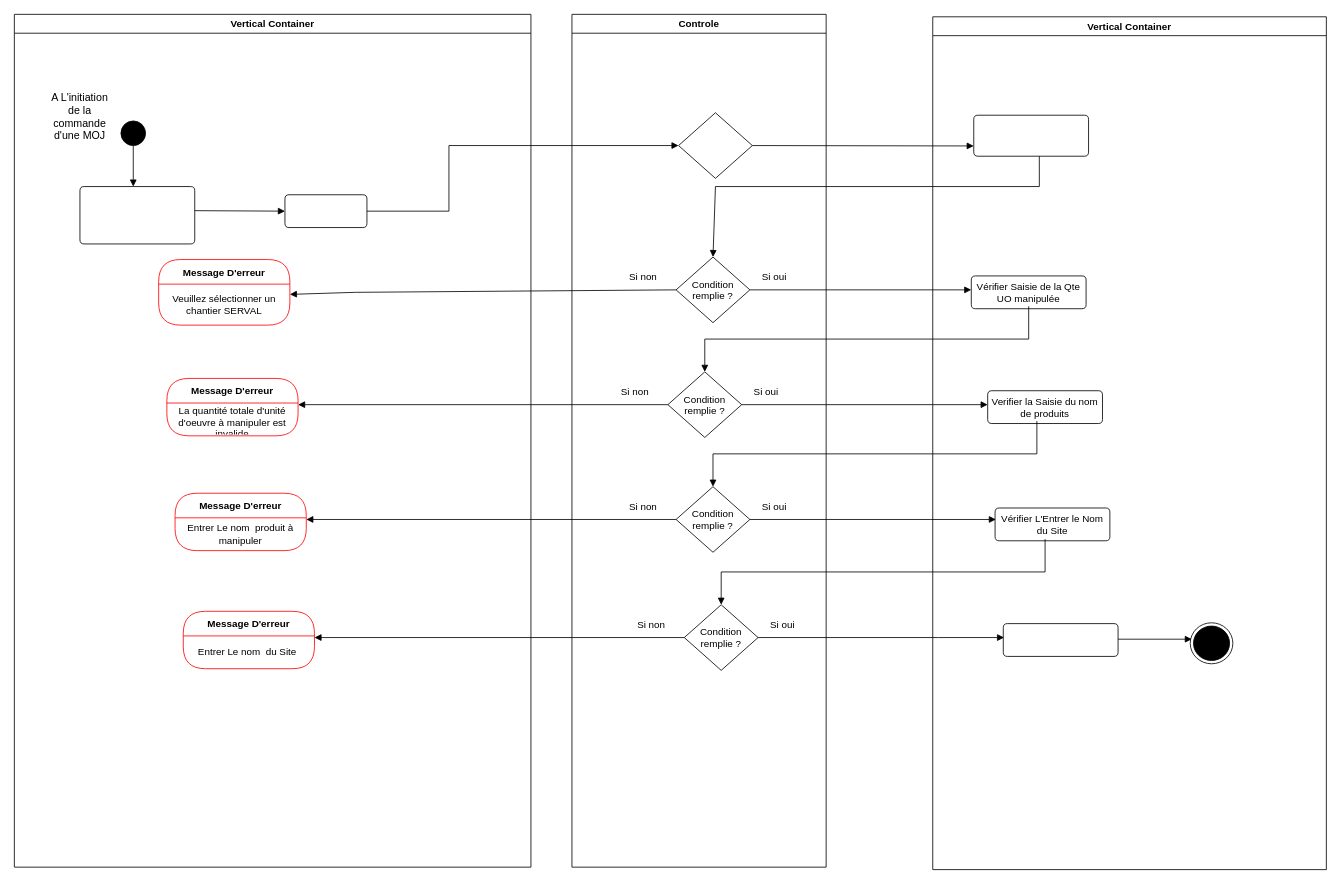
Some shapes in this 1341 by 884 pixel diagram are drawn without their labels. Here are the shapes that lost their labels. From the top down, the centre of each, then its label:
At (x=715, y=145): "Confirmation ?".
At (x=1031, y=135): "Verifie La Saisie d'un Code Chantier".
At (x=137, y=215): "Remplir le Formulaire de Commande de la MOJ".
At (x=325, y=211): "Ajouter".
At (x=1060, y=639): "Enregistrer La Commande".
